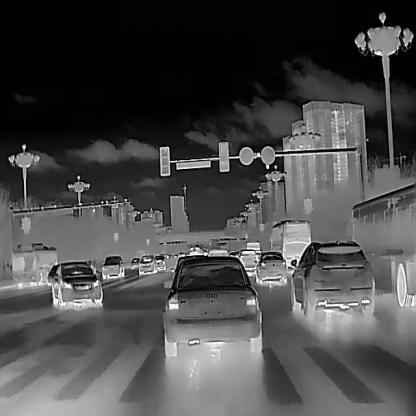bus: (346, 182, 414, 307), (10, 241, 58, 288), (267, 217, 311, 267), (244, 240, 260, 251)
car: (162, 252, 261, 357), (290, 239, 375, 316), (50, 261, 102, 307), (253, 250, 287, 284), (236, 248, 260, 274), (101, 255, 124, 279), (138, 254, 157, 274), (206, 247, 228, 256), (154, 254, 166, 270), (130, 256, 140, 269)
truck: (189, 244, 203, 254)
